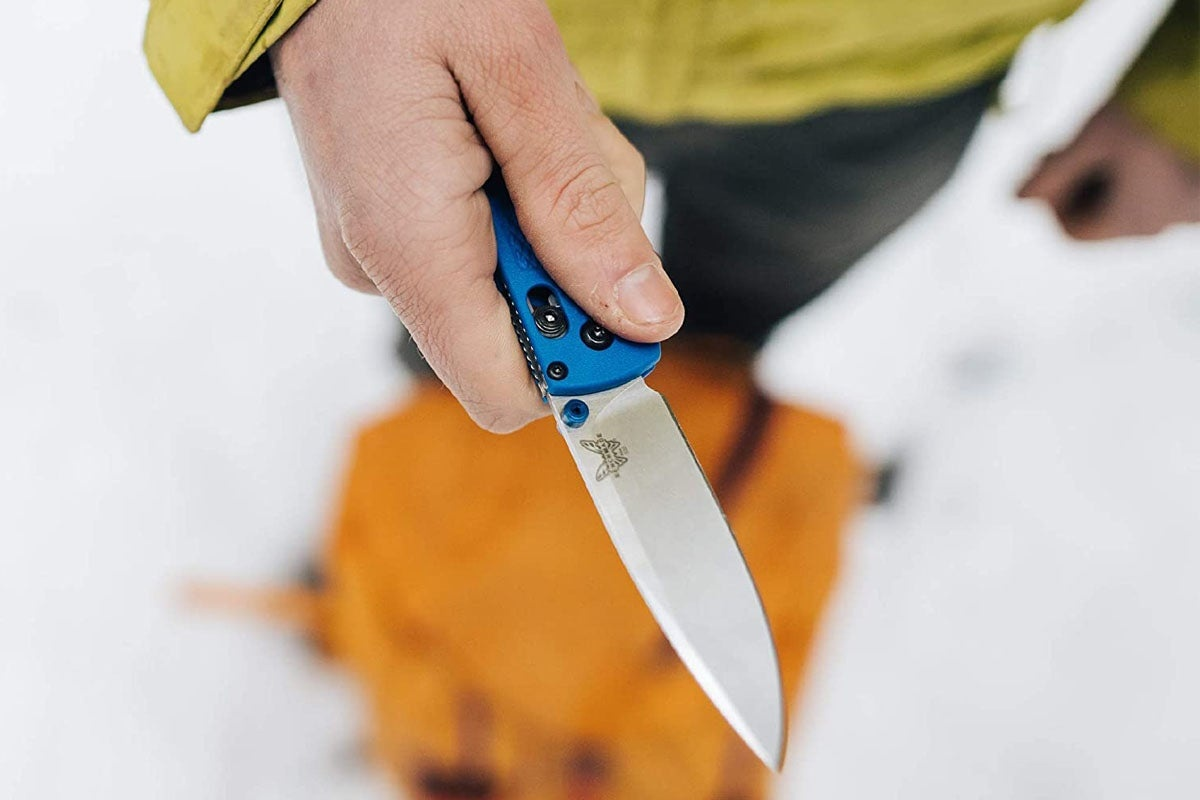knife: (480, 125, 793, 778)
